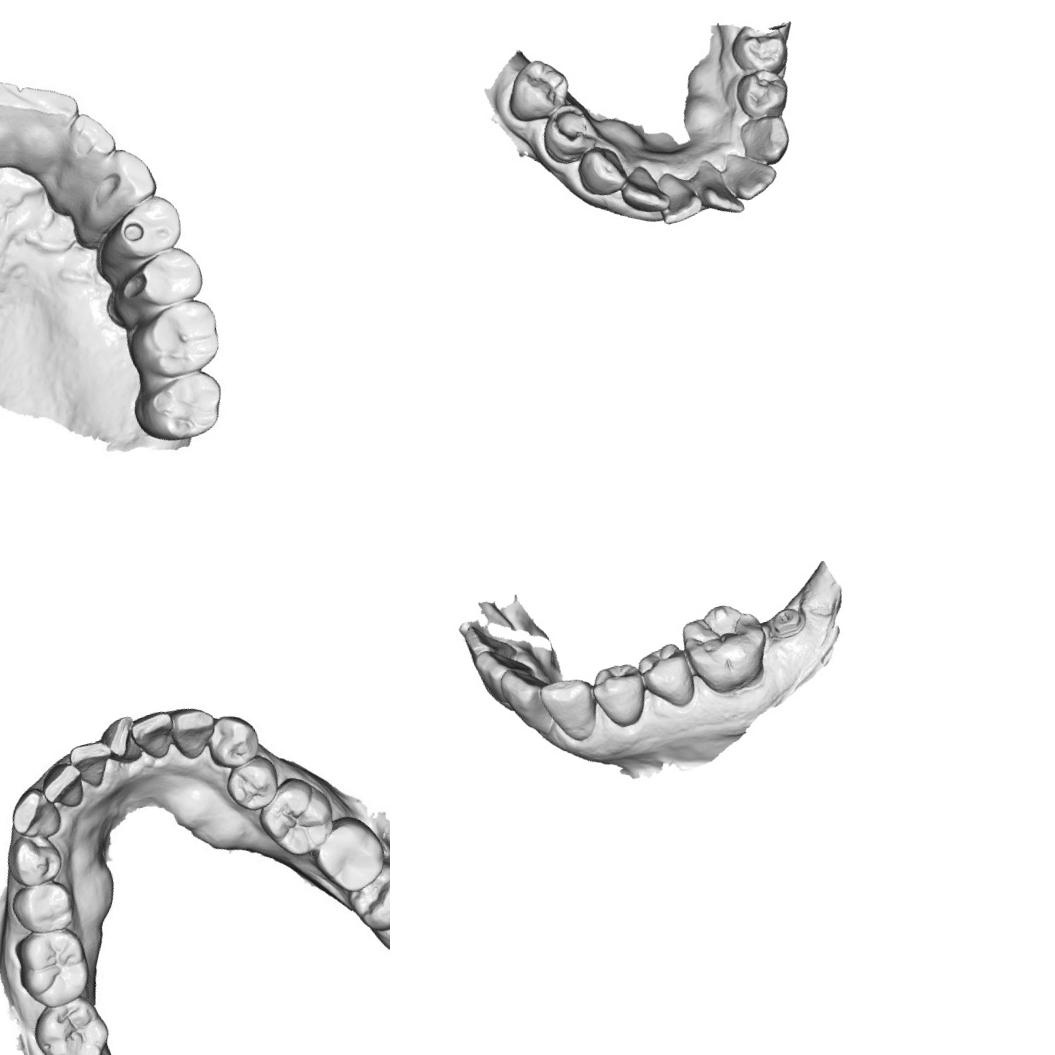canine: (64, 140, 162, 238), (536, 671, 605, 748), (732, 109, 798, 170), (0, 783, 66, 843), (570, 141, 630, 200), (164, 702, 218, 764)
implant_minus: (766, 602, 808, 640)
incisor: (7, 66, 91, 176), (52, 104, 120, 178), (0, 61, 40, 183), (495, 661, 555, 742), (691, 157, 747, 221), (725, 146, 782, 203), (614, 162, 668, 221), (458, 615, 518, 668), (652, 173, 706, 228), (43, 758, 92, 812), (127, 706, 176, 760), (472, 644, 514, 700), (70, 739, 114, 786), (103, 716, 141, 758)
molar: (675, 594, 778, 701), (122, 294, 232, 384), (127, 364, 234, 454), (10, 920, 98, 1008), (259, 778, 337, 858), (312, 819, 387, 890), (29, 993, 112, 1055), (342, 860, 390, 938)
premolar: (94, 242, 215, 333), (87, 188, 191, 280), (585, 656, 654, 734), (502, 52, 574, 124), (633, 638, 700, 715), (536, 100, 601, 170), (726, 18, 795, 81), (0, 830, 65, 891), (732, 62, 794, 122), (14, 882, 74, 938), (208, 709, 263, 767), (226, 760, 279, 810)
